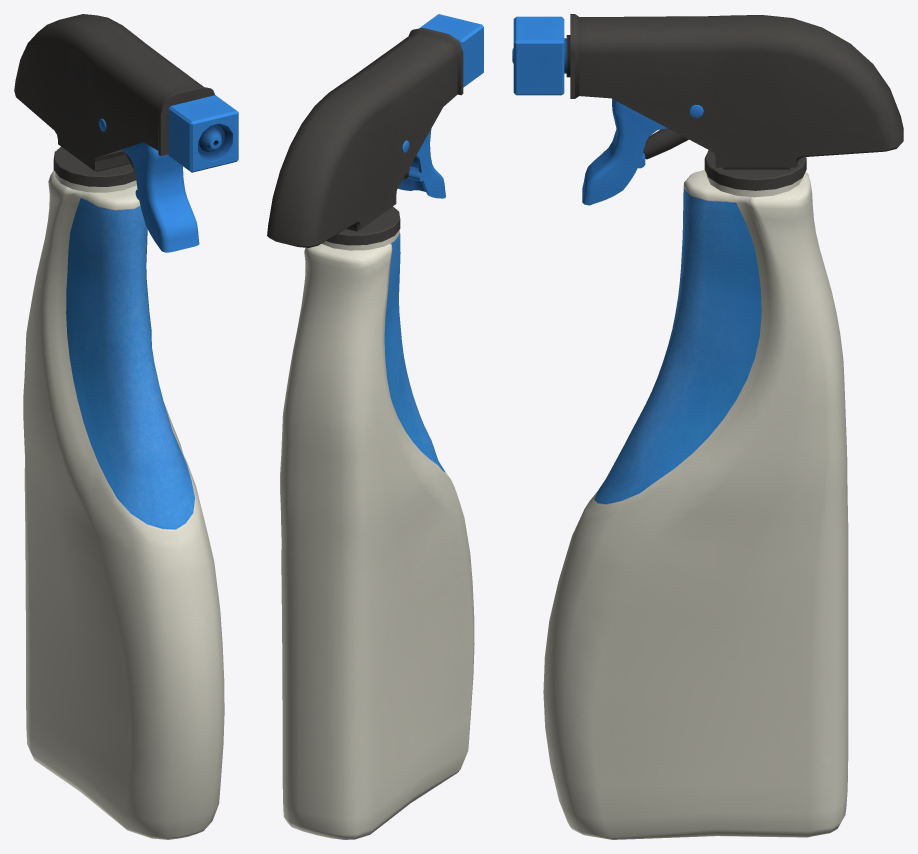
The model's file is SprayBottle.fbx.
The picture shows the model from 3 angles, left to right: view 1: azimuth 30°, elevation 25°; view 2: azimuth 150°, elevation 25°; view 3: azimuth 270°, elevation 25°; orthographic projection. The views are drawn at different scales.
Visible parts, largest first — view 1: SprayBottleContainer, SprayBottleTop, SprayBottleTrigger, SprayBottleNozzle; view 2: SprayBottleContainer, SprayBottleTop, SprayBottleNozzle, SprayBottleTrigger; view 3: SprayBottleContainer, SprayBottleTop, SprayBottleNozzle, SprayBottleTrigger, SprayBottlePlunger.
Part boxes in pixels (x1=…): SprayBottleContainer: x1=23, y1=170, x2=224, y2=839; SprayBottleTop: x1=14, y1=14, x2=214, y2=186; SprayBottleTrigger: x1=99, y1=118, x2=199, y2=252; SprayBottleNozzle: x1=168, y1=95, x2=238, y2=172; SprayBottleContainer: x1=280, y1=230, x2=474, y2=839; SprayBottleTop: x1=267, y1=28, x2=463, y2=247; SprayBottleNozzle: x1=419, y1=14, x2=483, y2=87; SprayBottleTrigger: x1=398, y1=129, x2=445, y2=198; SprayBottleContainer: x1=543, y1=170, x2=848, y2=839; SprayBottleTop: x1=566, y1=14, x2=903, y2=190; SprayBottleNozzle: x1=512, y1=16, x2=566, y2=95; SprayBottleTrigger: x1=582, y1=99, x2=703, y2=205; SprayBottlePlunger: x1=643, y1=128, x2=688, y2=159.
Size of the model in its own units: 3.85 by 25.21 by 11.16.
